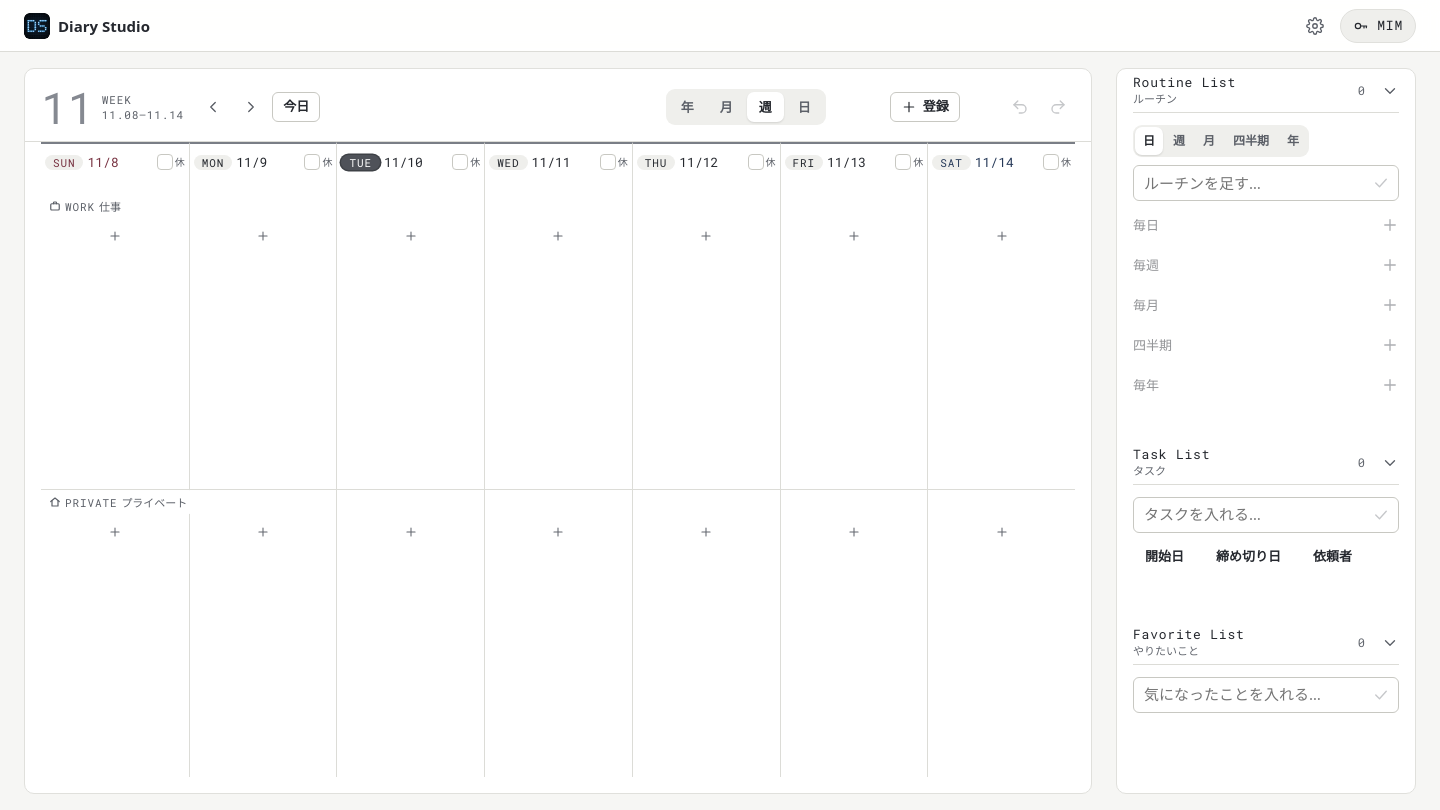
S3 入力欄（2段。14.2・■35。S3-ROUTINE-083〜093・S3-FRAME-236〜239） › 上の段に［日｜週｜月｜四半期｜年］、毎週・毎月・毎年の時だけ［指定］。選んだ種類は端末が覚える
Click the 2nd button "週" at (1179, 141), box [1165,127,1193,155]
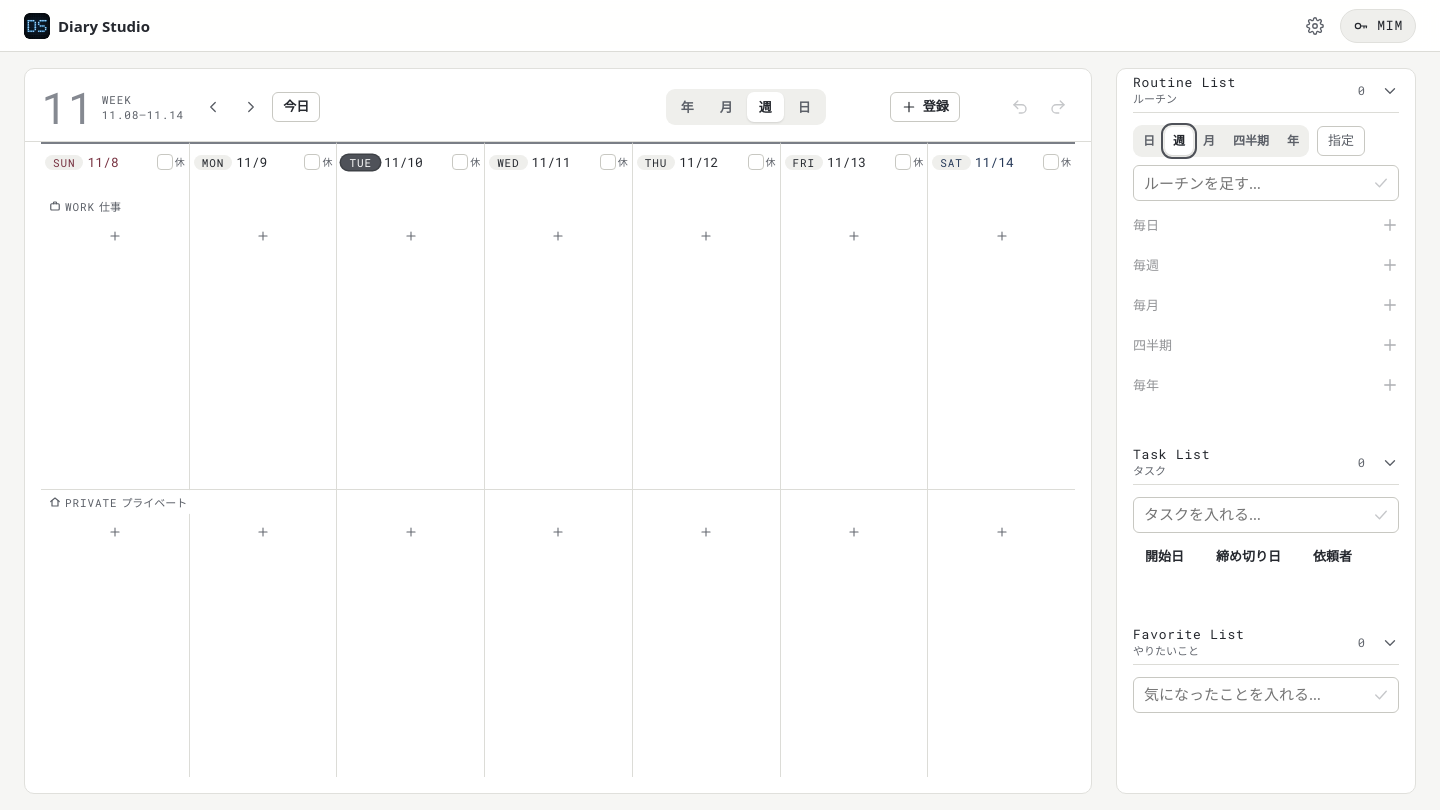
Check: the button with test id "routine-spec-button" reads "指定", box [1317,126,1365,156]
Click the 2nd button "月" at (1209, 141), box [1195,127,1223,155]
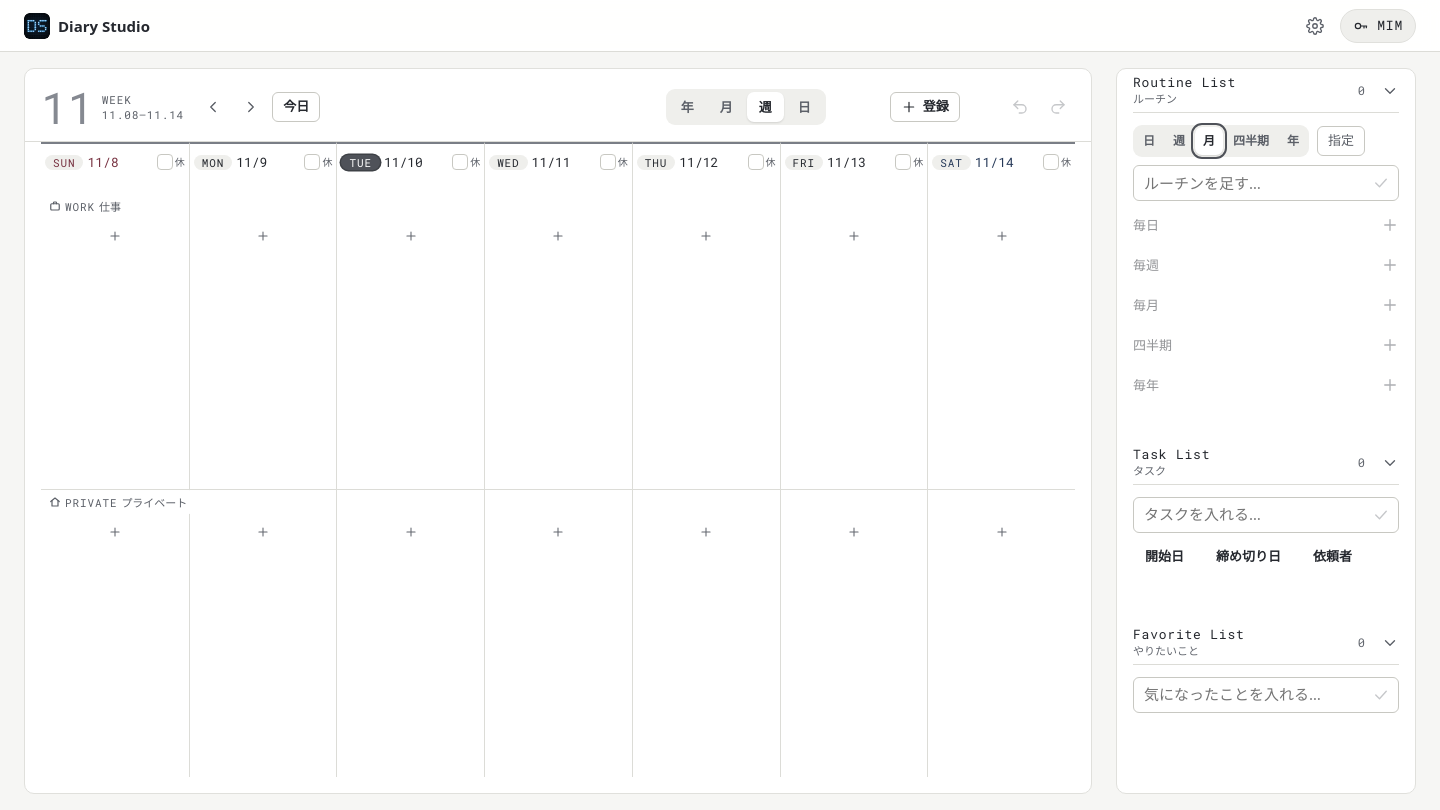
Check: the button with test id "routine-spec-button" reads "指定", box [1317,126,1365,156]
Click the 2nd button "年" at (1293, 141), box [1279,127,1307,155]
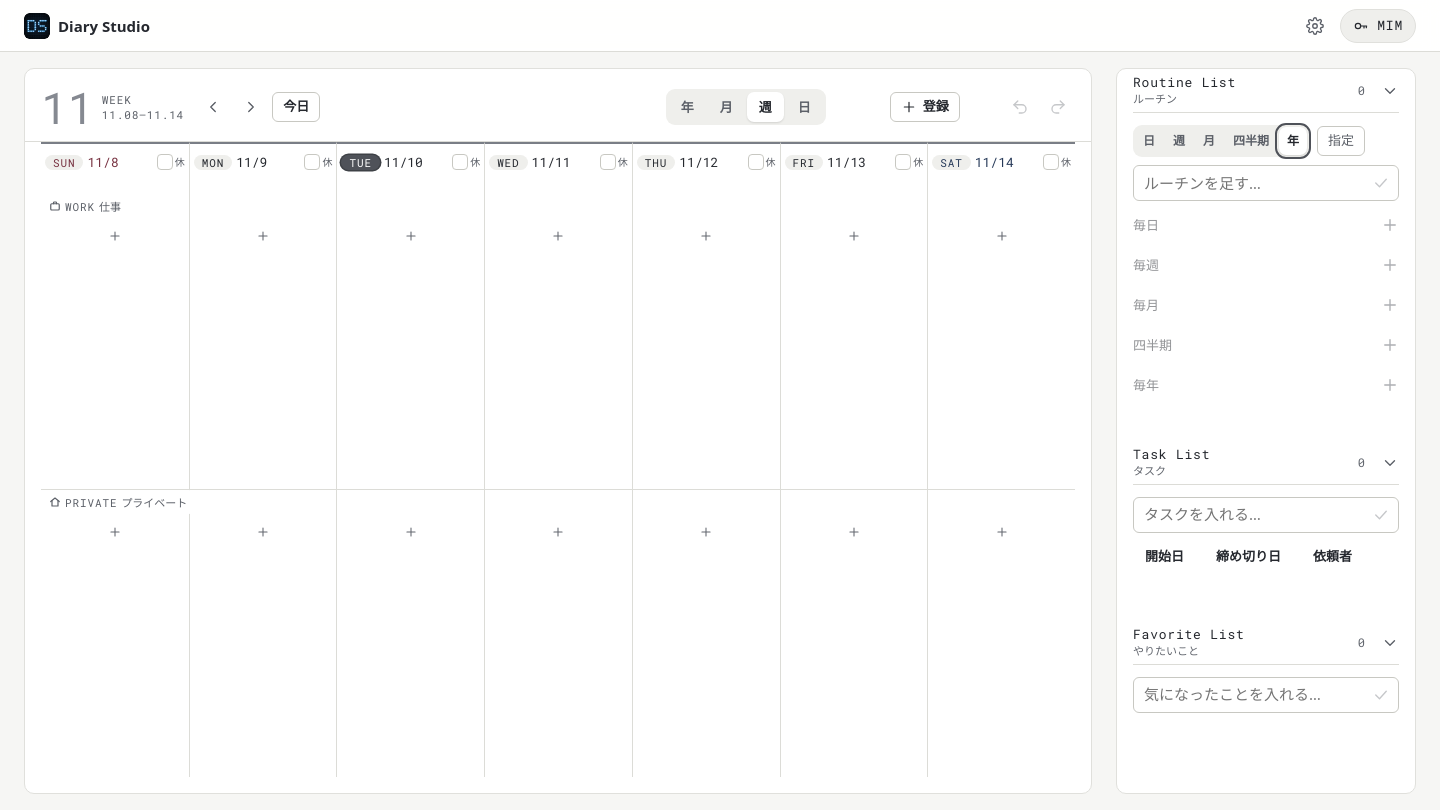
Check: the button with test id "routine-spec-button" reads "指定", box [1317,126,1365,156]
Click the button "四半期" at (1251, 141), box [1225,127,1277,155]
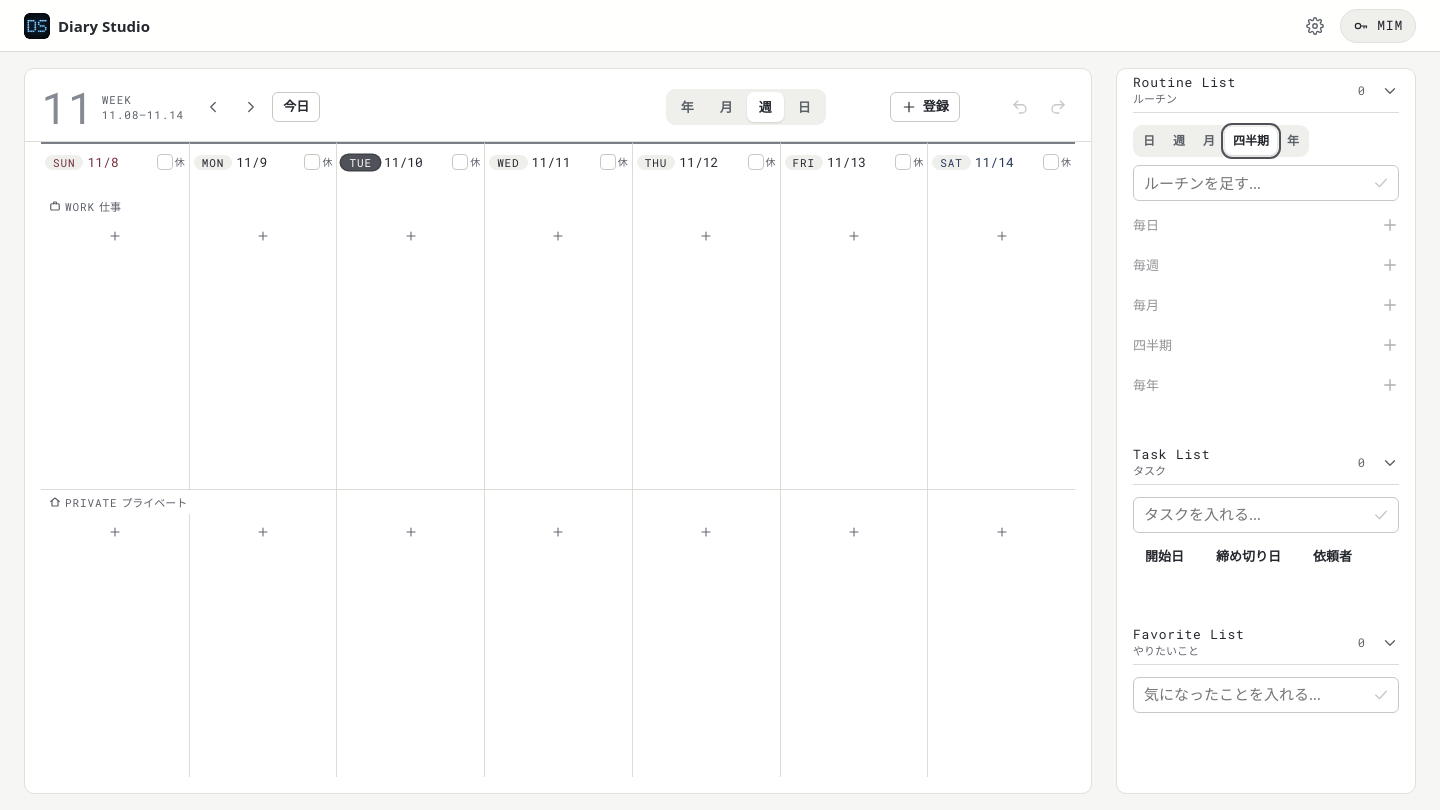
Check: the button with test id "routine-spec-button" is gone
